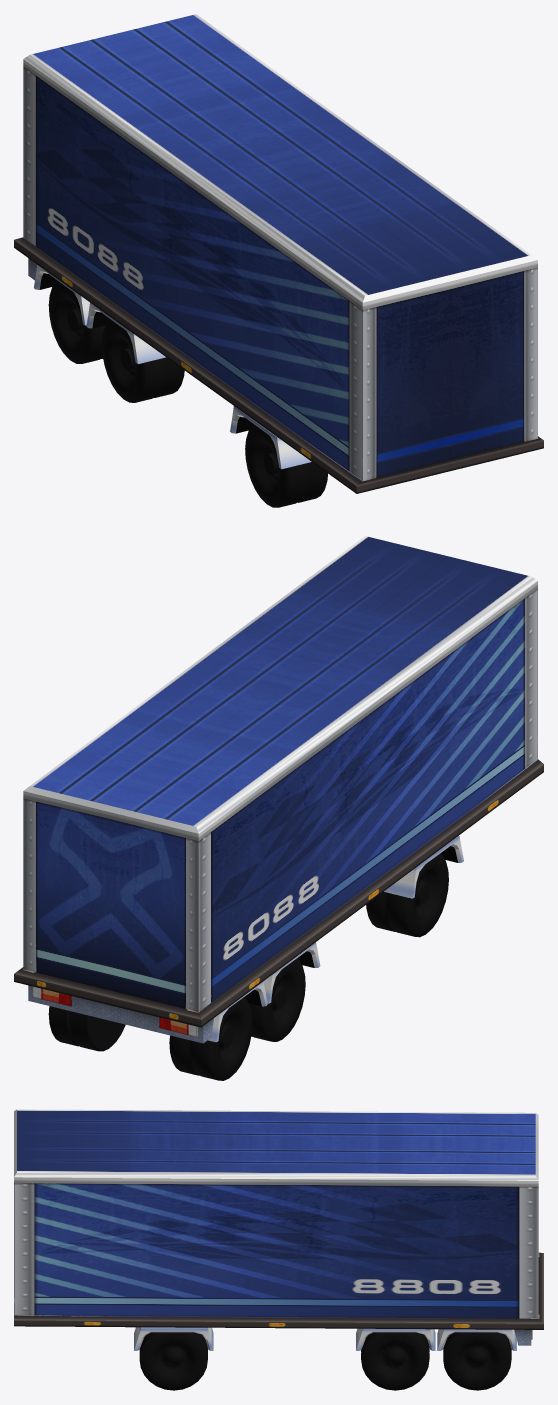
File: Model_Trailer.FBX
The picture shows the model from 3 angles, top to bottom: view 1: azimuth 30°, elevation 25°; view 2: azimuth 150°, elevation 25°; view 3: azimuth 270°, elevation 25°; orthographic projection. The views are drawn at different scales.
Parts seen in each view (by area): view 1: Trailer, Wheel_FR, Wheel_MR, Wheel_RR; view 2: Trailer, Wheel_RR, Wheel_FR, Wheel_MR, Wheel_RL; view 3: Trailer, Wheel_RL, Wheel_FL, Wheel_ML.
Part boxes in pixels (<box>): Trailer: <box>14,14,543,493</box>; Wheel_FR: <box>245,424,327,507</box>; Wheel_MR: <box>102,319,184,402</box>; Wheel_RR: <box>48,280,105,363</box>; Trailer: <box>14,536,543,1043</box>; Wheel_RR: <box>169,997,252,1080</box>; Wheel_FR: <box>366,853,448,937</box>; Wheel_MR: <box>249,958,305,1041</box>; Wheel_RL: <box>48,1006,125,1051</box>; Trailer: <box>14,1109,543,1350</box>; Wheel_RL: <box>443,1332,511,1390</box>; Wheel_FL: <box>139,1332,207,1390</box>; Wheel_ML: <box>361,1332,429,1390</box>.
Size of the model in its own units: 4163 by 6042 by 13198.
